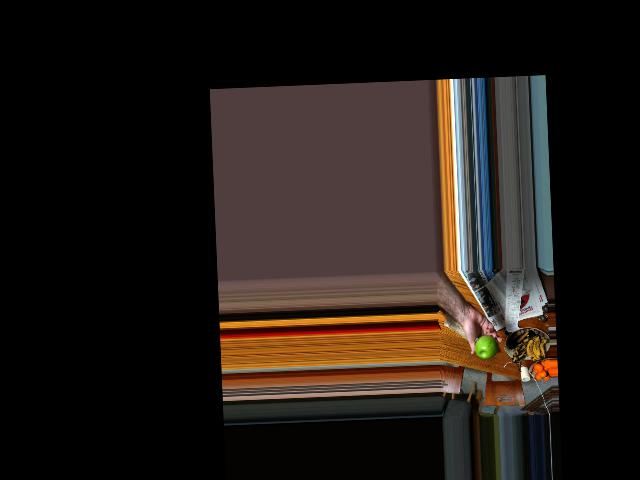apple: (473, 333, 499, 361)
